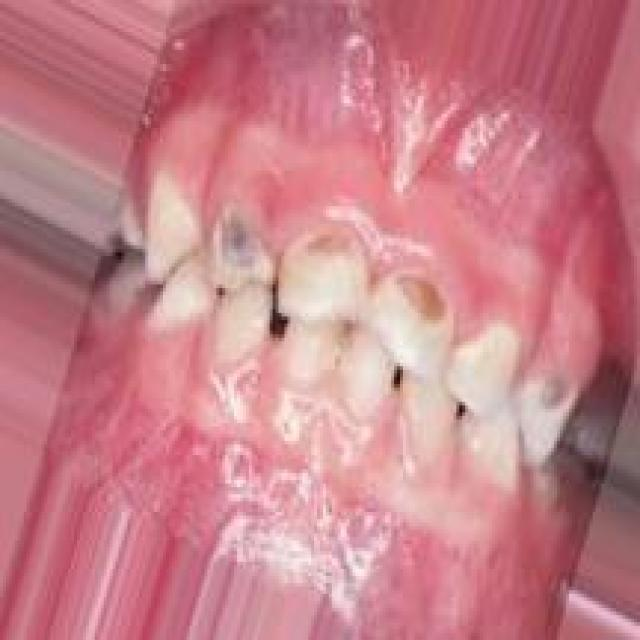caries: (286, 217, 376, 289), (202, 202, 272, 294), (384, 257, 463, 337), (529, 362, 589, 430)
